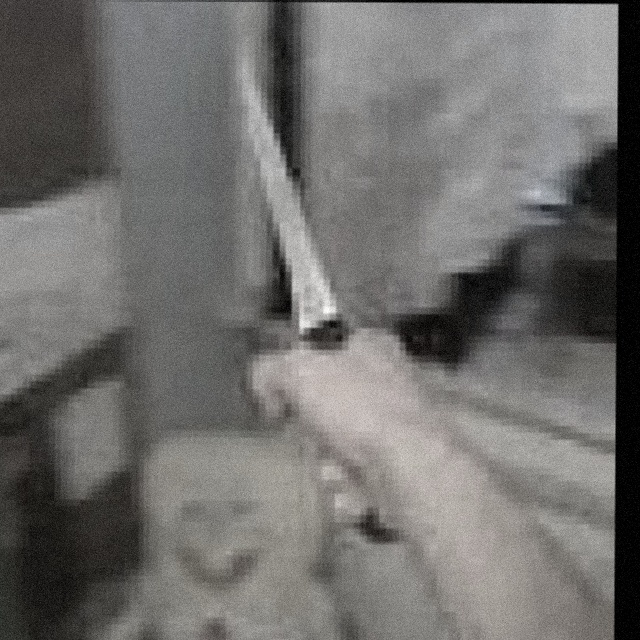Sharp-Object: (236, 61, 407, 550)
